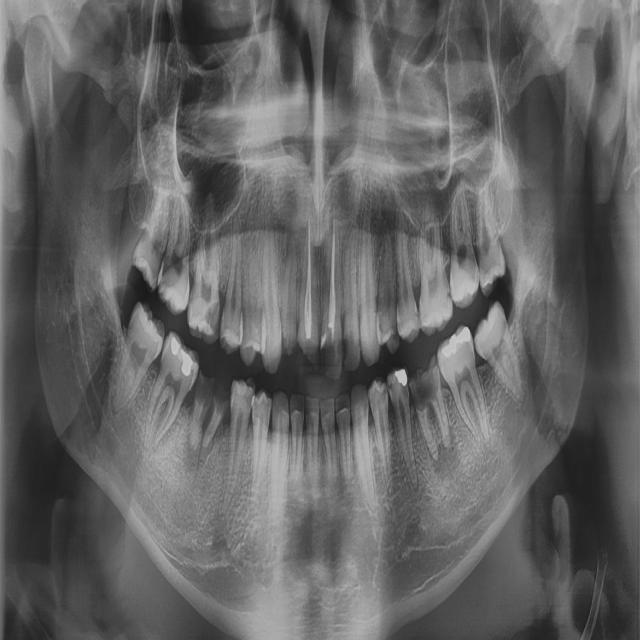Caries: (298, 339, 319, 373), (203, 298, 220, 335), (320, 339, 335, 371), (290, 394, 306, 414), (336, 392, 350, 413), (337, 337, 343, 365), (445, 281, 452, 302), (305, 399, 313, 416), (344, 338, 349, 362), (387, 379, 393, 398), (414, 304, 419, 322), (383, 383, 388, 397)
Filling: (442, 328, 472, 355), (181, 347, 194, 377), (395, 368, 407, 387), (170, 338, 180, 359)
Periapical lesion: (370, 211, 395, 256), (183, 432, 201, 472), (430, 446, 451, 480), (440, 441, 461, 470), (198, 437, 214, 471), (284, 224, 298, 258), (156, 424, 173, 450), (111, 397, 125, 417), (411, 478, 419, 492)
Root Canal Treatment: (303, 226, 311, 336), (329, 231, 337, 330)
Root Piece: (411, 372, 440, 462), (426, 356, 453, 451), (202, 382, 228, 451), (190, 371, 212, 449)
